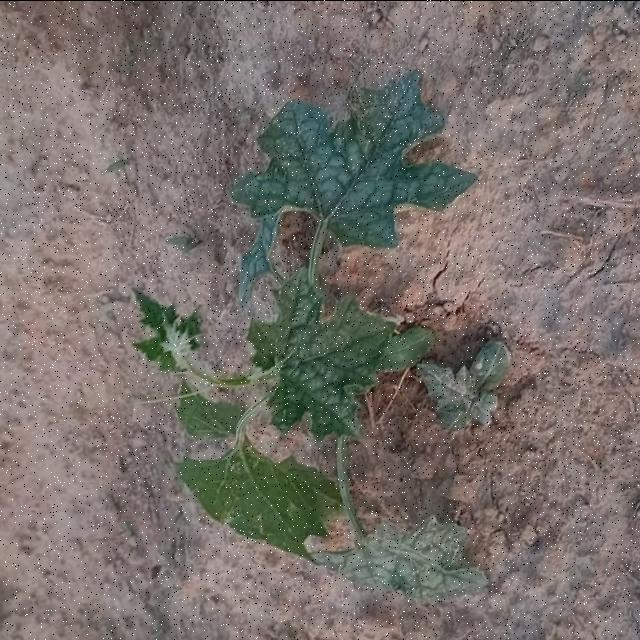plant: (136, 70, 488, 599), (420, 340, 510, 429)
